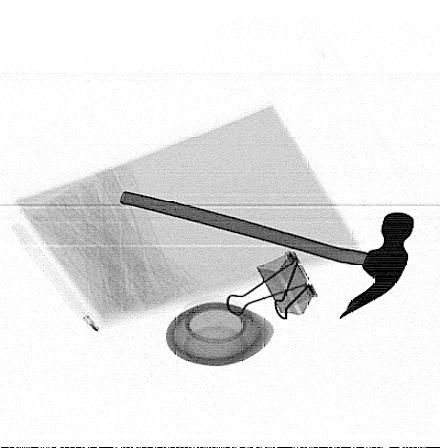Hammer: (118, 190, 417, 320)
